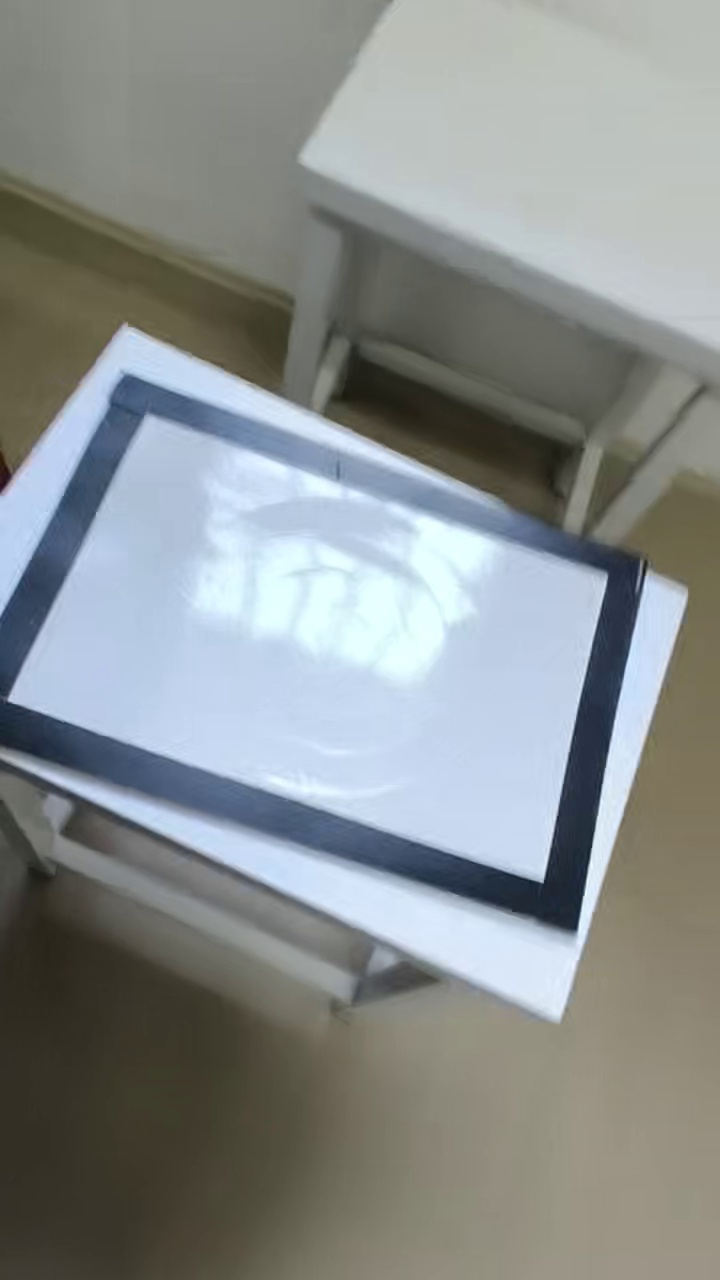board: (14, 374, 648, 931)
